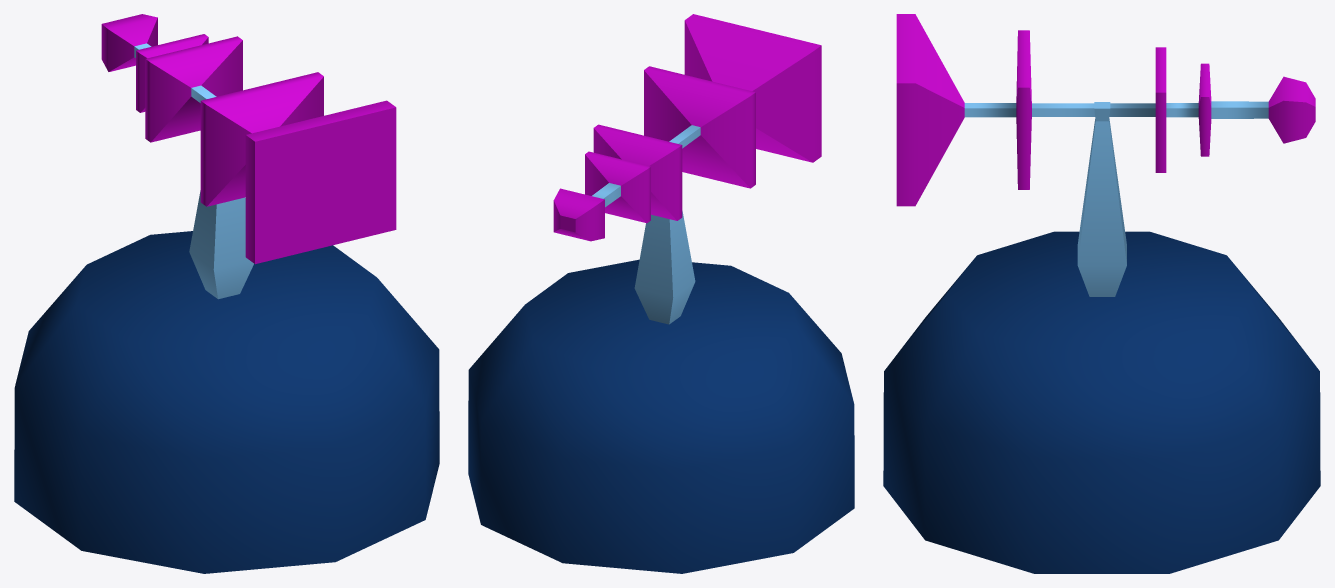
File: laser.FBX
3 renders of one model, left to right at view 1: azimuth 30°, elevation 25°; view 2: azimuth 150°, elevation 25°; view 3: azimuth 270°, elevation 25°, orthographic. The views are drawn at different scales.
Visible parts, largest first — view 1: Sphere001, Box002, Box001; view 2: Sphere001, Box002, Box001; view 3: Sphere001, Box002, Box001.
Part boxes in pixels (x1,y1,x2,y2): Sphere001: (14, 231, 439, 573); Box002: (101, 14, 396, 264); Box001: (189, 190, 253, 299); Sphere001: (468, 259, 854, 573); Box002: (553, 14, 821, 241); Box001: (634, 211, 695, 324); Sphere001: (883, 231, 1320, 573); Box002: (896, 14, 1315, 206); Box001: (1077, 102, 1126, 296).
Bounding box in the file's own units: 6.24 × 7.22 × 6.56.
